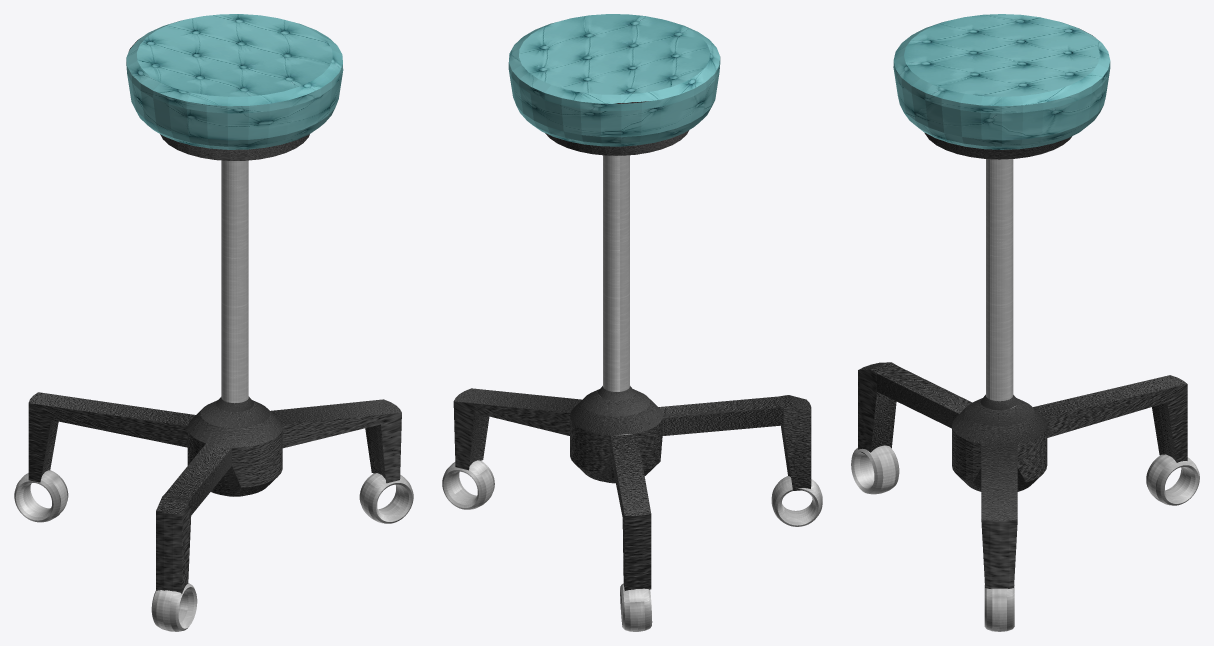
Rendered from chair.obj.
3 views of the same model, side by side, from view 1: azimuth 30°, elevation 25°; view 2: azimuth 150°, elevation 25°; view 3: azimuth 270°, elevation 25° (orthographic). The views are drawn at different scales.
Parts seen in each view (by area): view 1: Cylinder_Cylinder.014, Torus, Torus.001, Torus.002; view 2: Cylinder_Cylinder.014, Torus, Torus.002, Torus.001; view 3: Cylinder_Cylinder.014, Torus.001, Torus.002, Torus.
Boxes of the visible parts, x1,y1,x2,y2 form: Cylinder_Cylinder.014: (28,14,401,593); Torus: (359,473,413,523); Torus.001: (14,470,68,522); Torus.002: (151,583,197,631); Cylinder_Cylinder.014: (453,14,811,590); Torus: (442,460,494,509); Torus.002: (771,476,822,526); Torus.001: (620,583,652,631); Cylinder_Cylinder.014: (858,14,1187,588); Torus.001: (1146,454,1199,505); Torus.002: (851,445,899,494); Torus: (984,585,1014,631).
Bounding box in the file's own units: 0.8459 × 1.26 × 0.7981.
